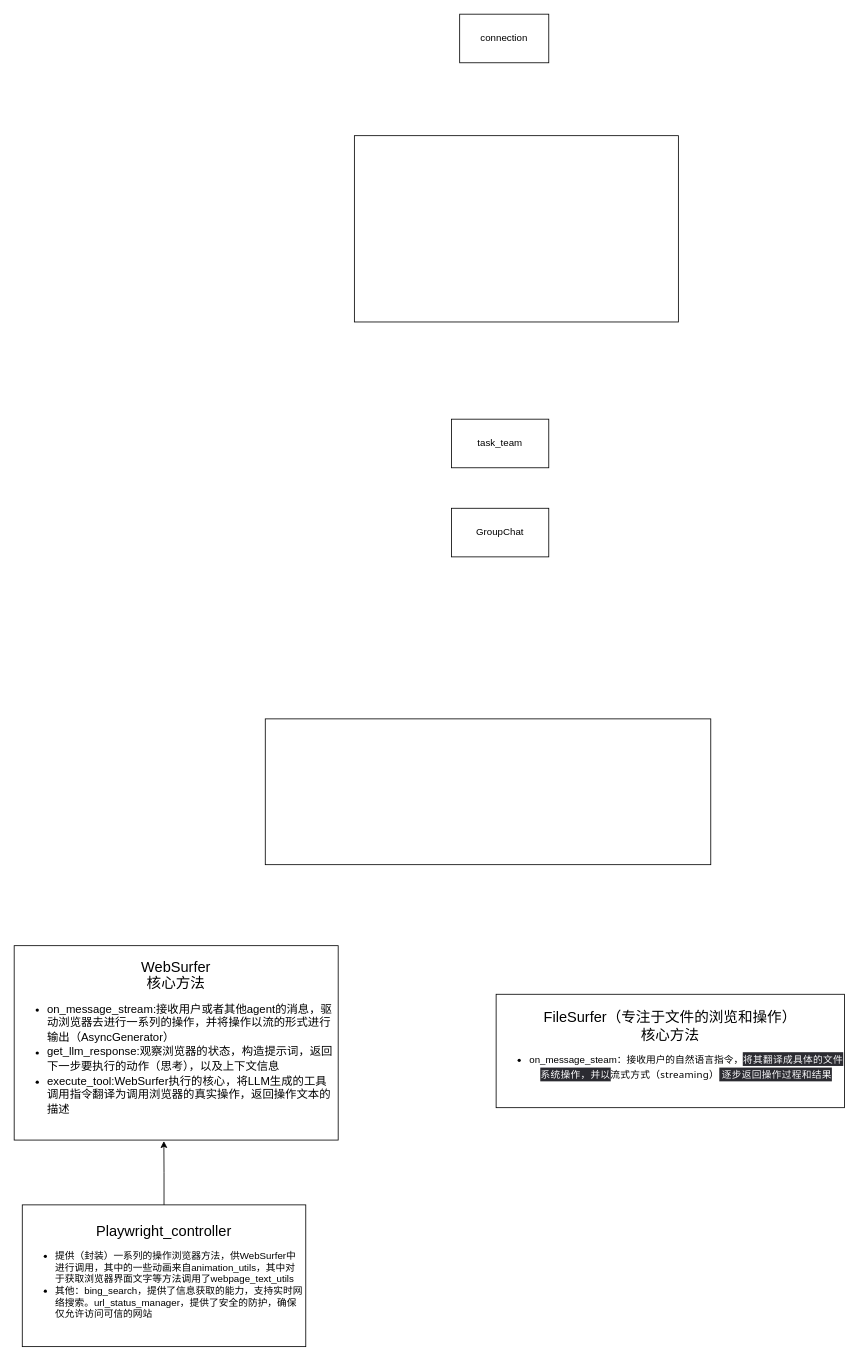
The diagram is 859 pixels wide and 1361 high, and some of its shapes have lost their labels. The shapes that lost their labels are listed below. From the top down, each one's box as (x1, y1, x2, y2) in pixels, then its label:
(354, 135, 678, 322): teammanager 后端任务执行和生命周期的管理器 接收一个任务，根据配置创建一个Team，流式执行任务，实时返回执行的过程，任务结束后解散团队
(264, 718, 711, 865): orchestrator 接收用户任务 → 制定执行计划 → 按步骤调度不同 Agent 执行 → 监控进度 → 必要时调整计划 → 最终汇总答案
